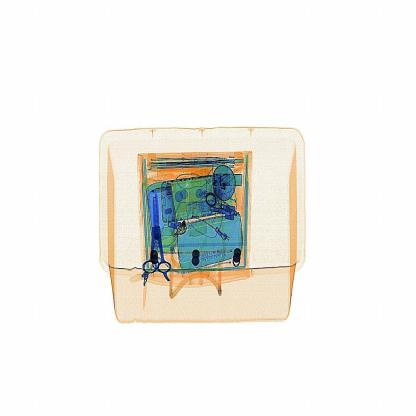gun: (136, 178, 180, 283)
